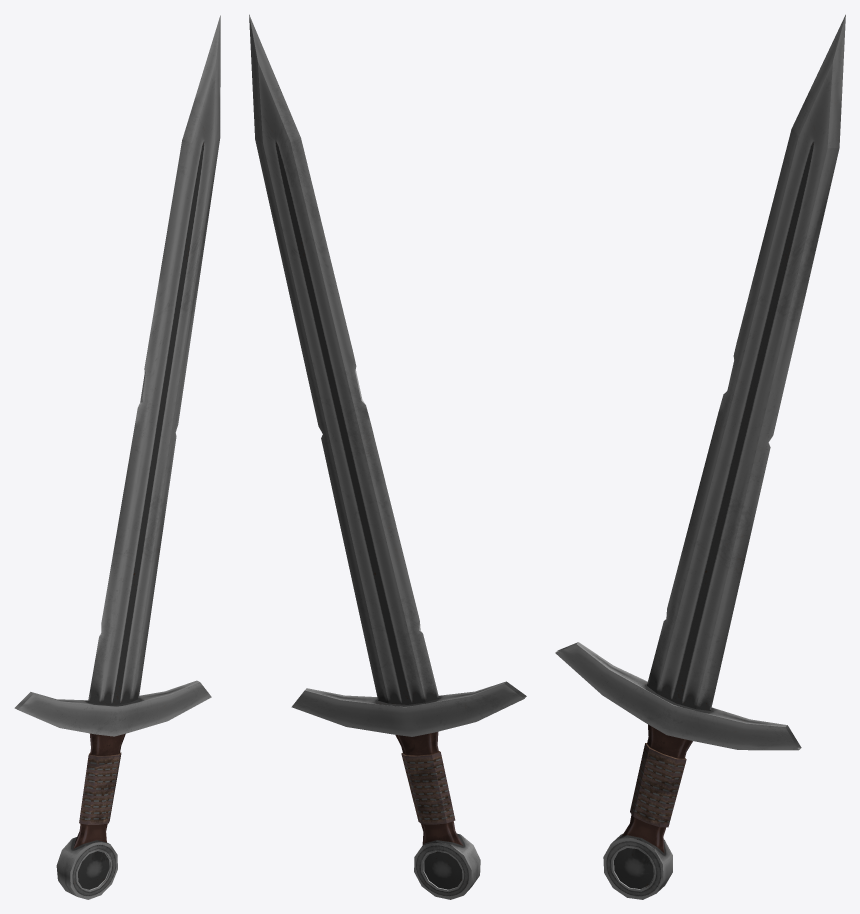
The model's file is sword.fbx.
3 views of the same model, side by side, from view 1: azimuth 30°, elevation 25°; view 2: azimuth 150°, elevation 25°; view 3: azimuth 330°, elevation 25° (orthographic). The views are drawn at different scales.
Visible parts, largest first — view 1: sword; view 2: sword; view 3: sword.
Part boxes in pixels (box(x1,y1,x2,y2)): sword: box(14, 15, 220, 899); sword: box(249, 14, 526, 899); sword: box(555, 14, 845, 899).
Size of the model in its own units: 7.15 by 26.94 by 90.17.
1 material, 1 textured.
